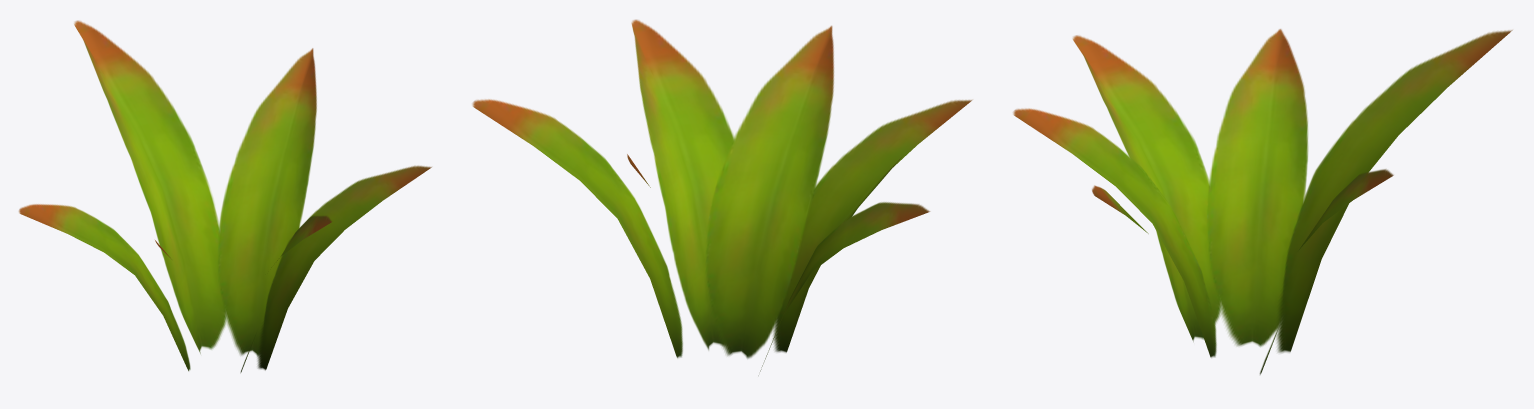
File: mega-plant.glb
3 renders of one model, left to right at view 1: azimuth 30°, elevation 25°; view 2: azimuth 150°, elevation 25°; view 3: azimuth 270°, elevation 25°, orthographic. The views are drawn at different scales.
Parts seen in each view (by area): view 1: Plant_1; view 2: Plant_1; view 3: Plant_1.
Boxes of the visible parts, x1,y1,x2,y2 form: Plant_1: (19, 20, 431, 372); Plant_1: (472, 19, 971, 375); Plant_1: (1013, 29, 1512, 374).
Size of the model in its own units: 1.27 by 1.01 by 1.39.
Materials: 1 (1 with a texture image).
